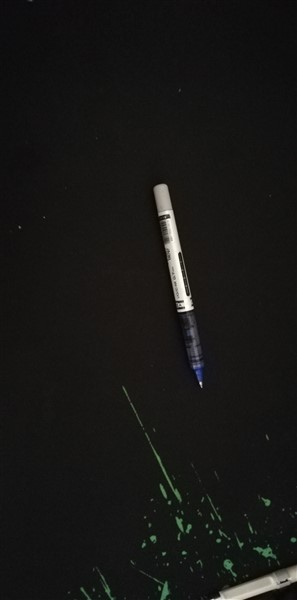pilot kalem: (149, 180, 212, 394)
